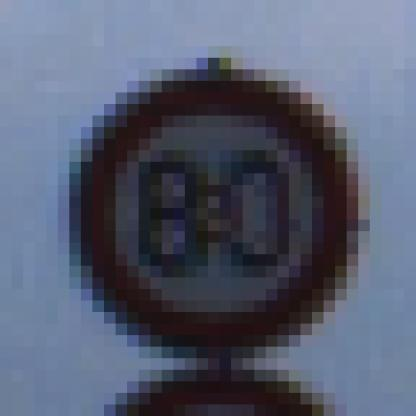Speed Limit 80: (81, 82, 349, 352)
